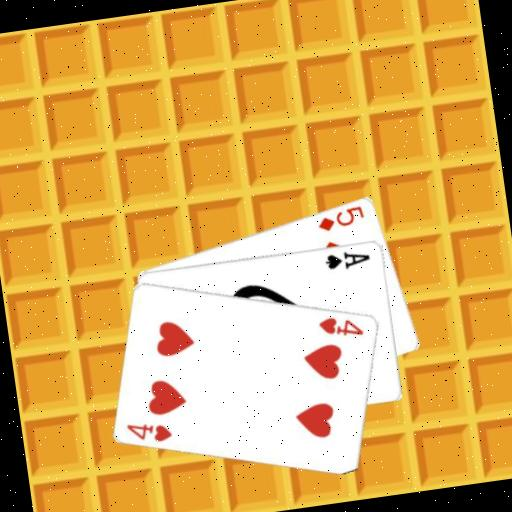4H: (315, 310, 367, 343), (124, 415, 176, 448)
5D: (314, 202, 368, 234)
AS: (322, 245, 374, 274)
